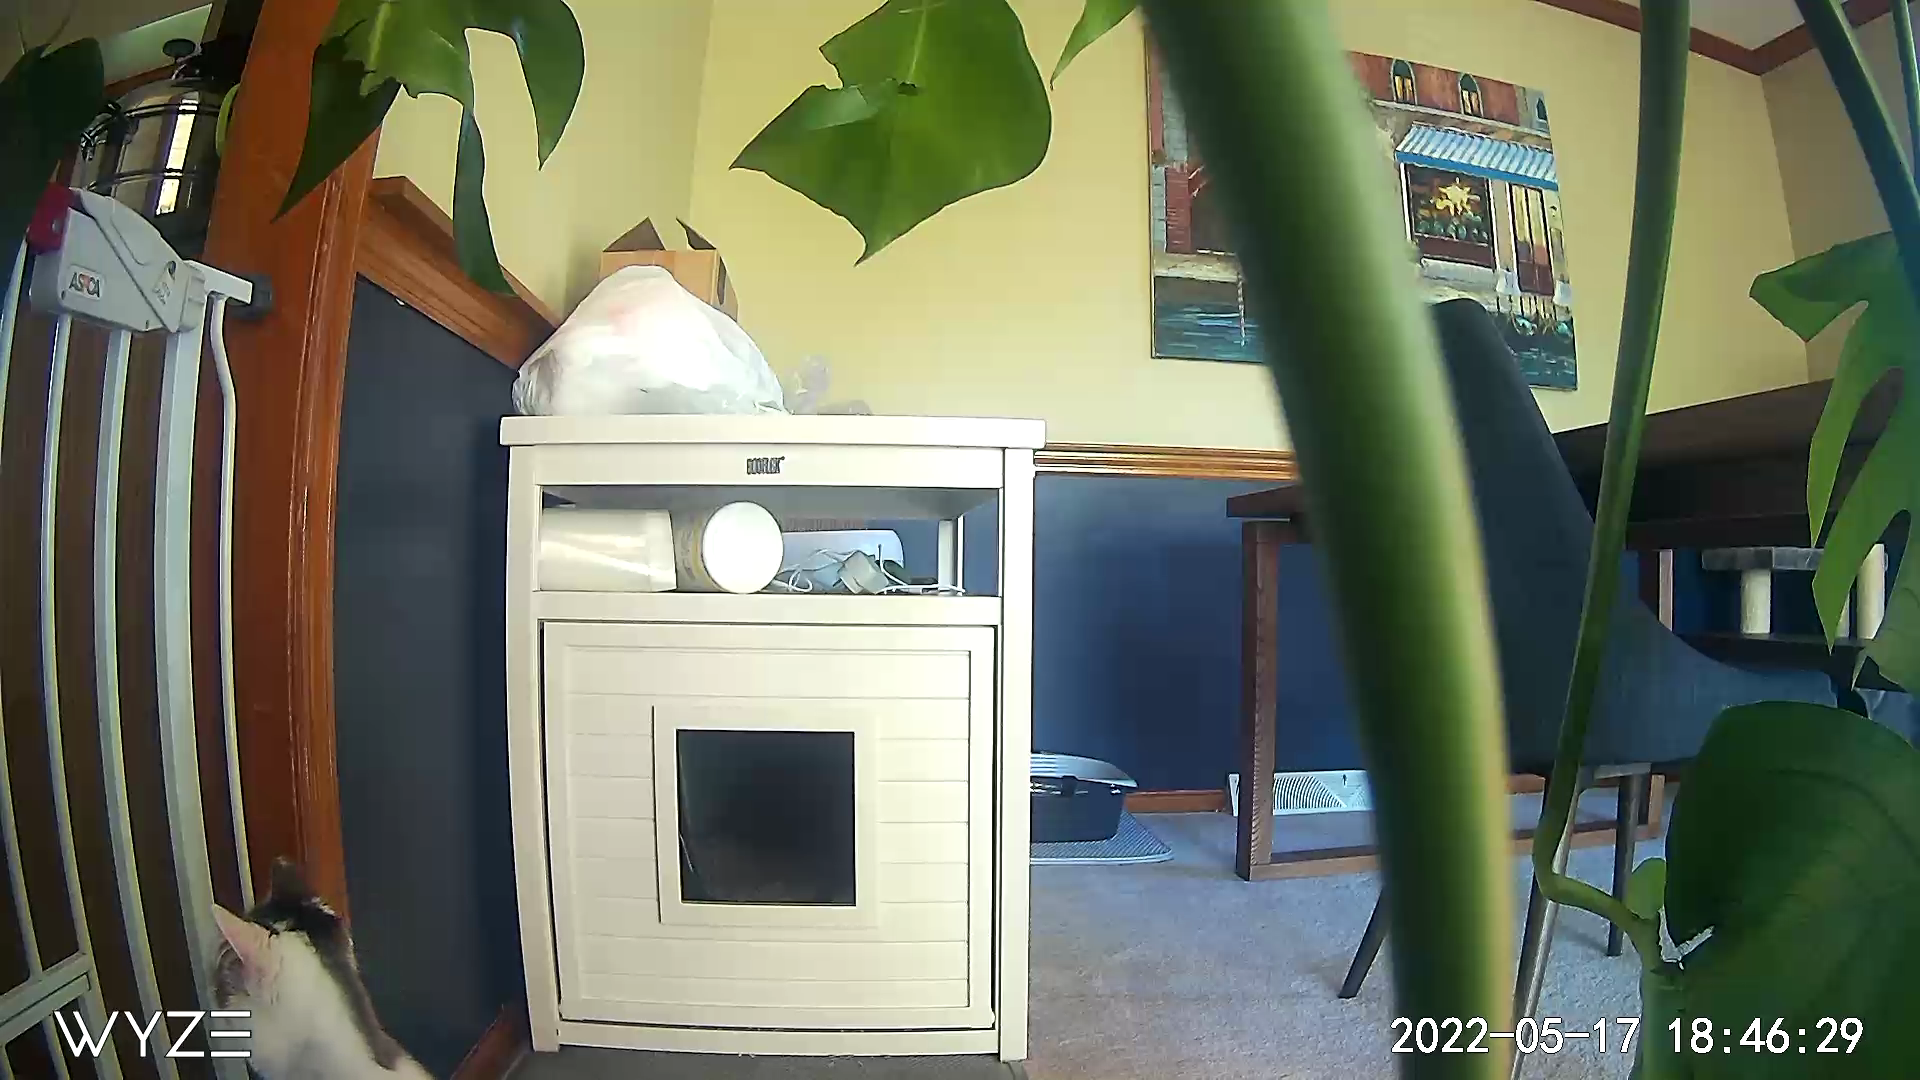maoxin: (196, 887, 368, 1001)
